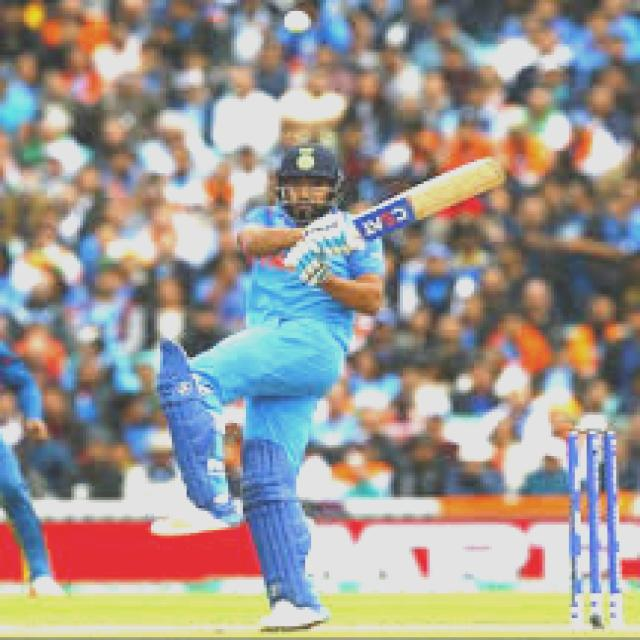toe: (465, 157, 498, 196)
